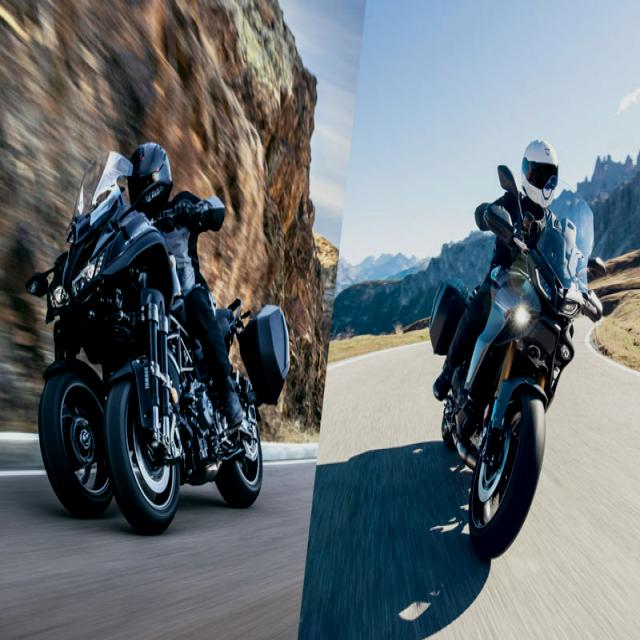MOTORCYCLE: (37, 169, 263, 537), (443, 218, 579, 554)
